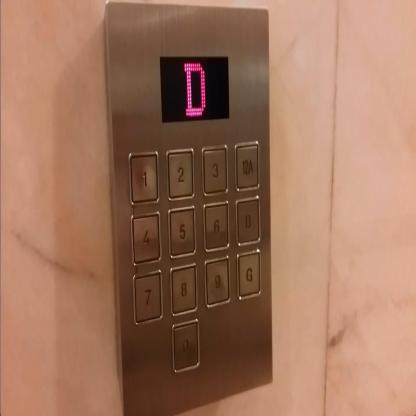0: (172, 318, 200, 375)
1: (127, 149, 160, 206)
12A: (233, 138, 260, 192)
2: (166, 146, 196, 202)
3: (201, 143, 229, 197)
4: (129, 209, 162, 265)
5: (167, 203, 197, 259)
6: (202, 199, 230, 252)
7: (132, 268, 163, 326)
8: (169, 261, 198, 317)
9: (203, 255, 231, 309)
D: (234, 194, 261, 247)
G: (236, 248, 262, 300)
led: (159, 53, 230, 124)
